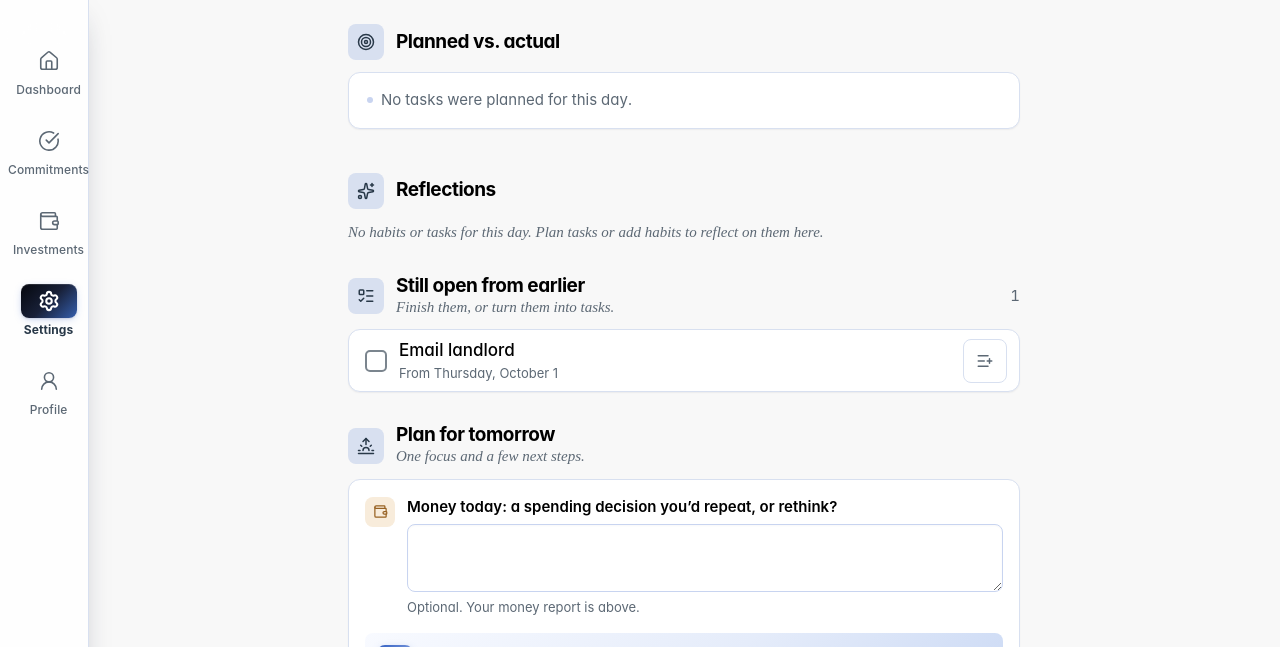
Test: daily review › shows yesterday’s focus and earlier open actions on the next review
(page scrolled)
Click the button named "Make “Email landlord” a task". click: x=985, y=361
box: [963,339,1007,383]
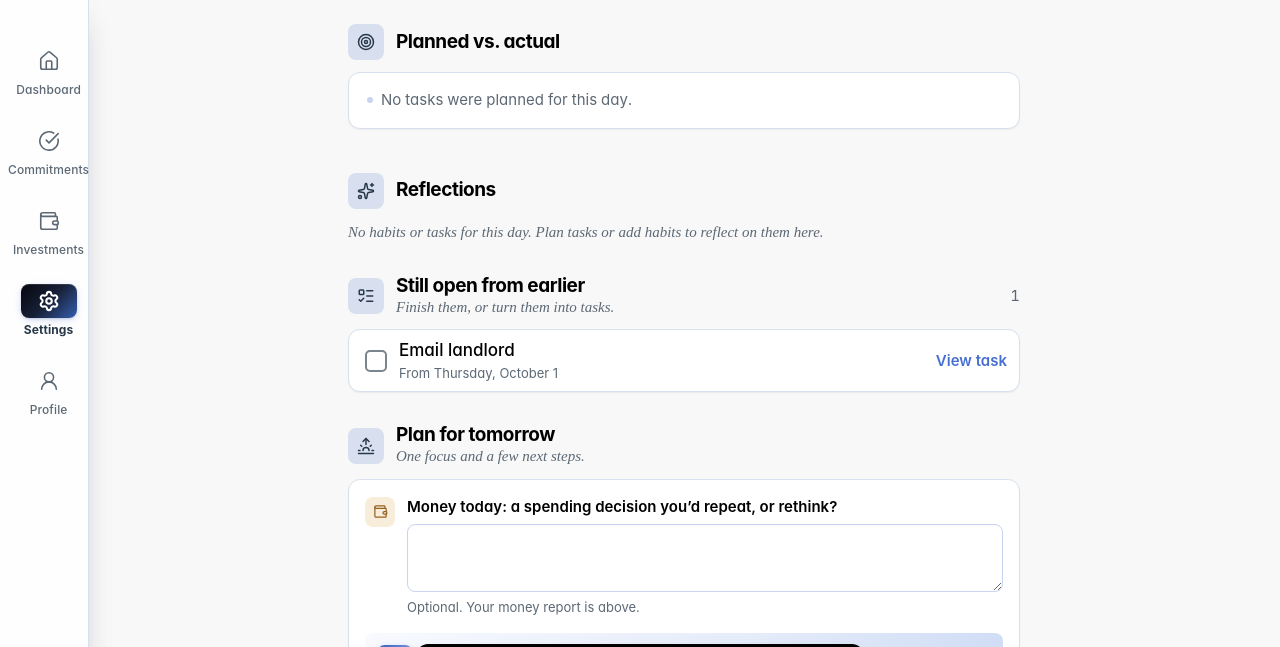
Expected: the link "View task" is shown, [936,351,1007,370]
